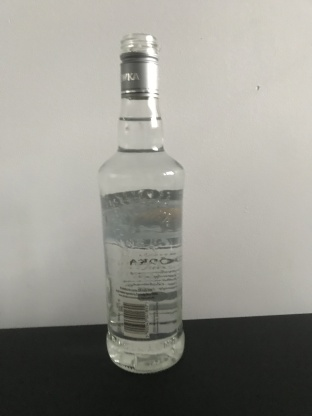nakretka: (118, 31, 161, 100)
